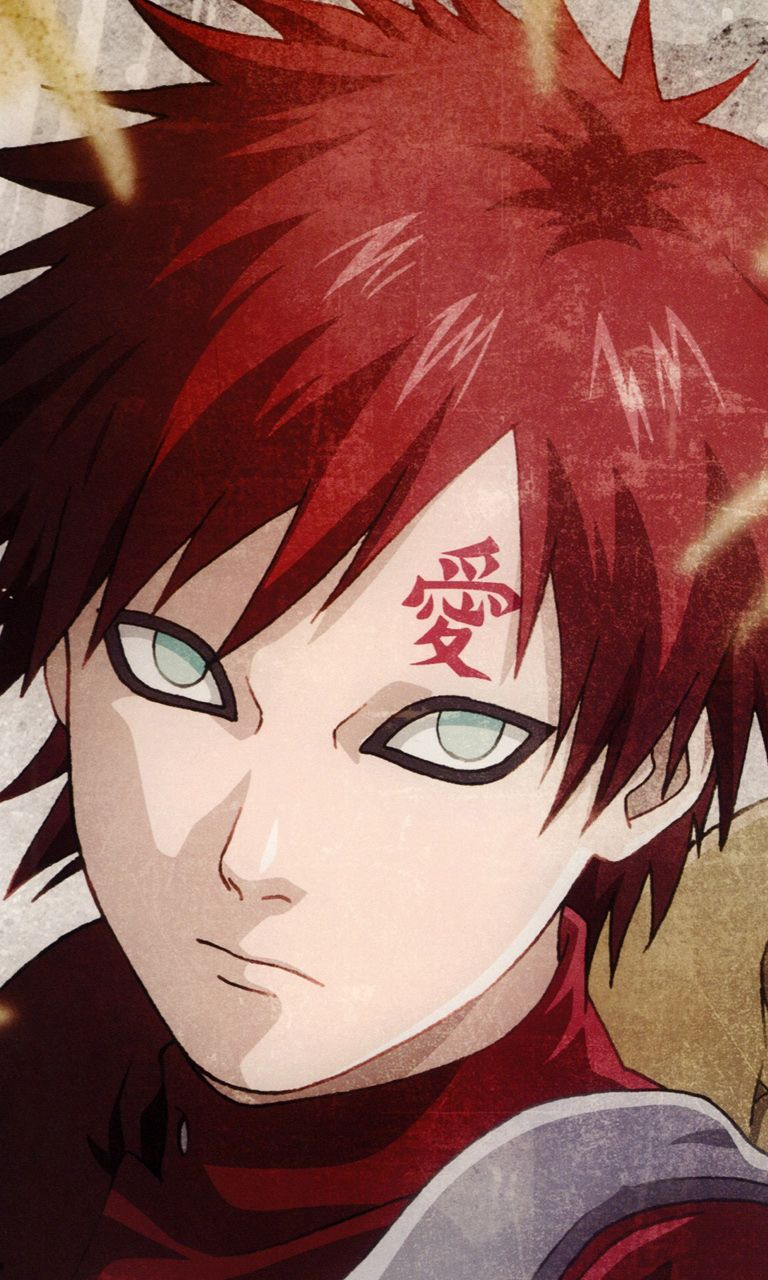gaara: (20, 410, 725, 1100)
